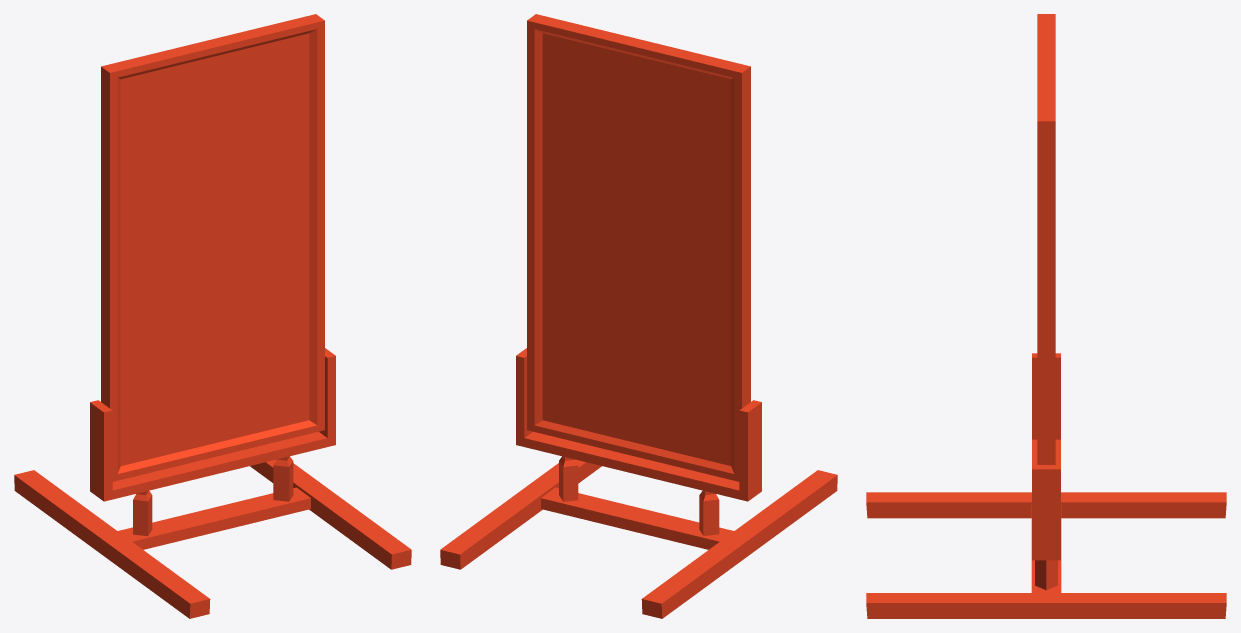
Rendered from SM_Sign_Standing_B_City.fbx.
The picture shows the model from 3 angles, left to right: view 1: azimuth 30°, elevation 25°; view 2: azimuth 150°, elevation 25°; view 3: azimuth 270°, elevation 25°; orthographic projection. The views are drawn at different scales.
Parts seen in each view (by area): view 1: SM_Sign_Standing_B_City; view 2: SM_Sign_Standing_B_City; view 3: SM_Sign_Standing_B_City.
Part boxes in pixels (box(x1,y1,x2,y2)): SM_Sign_Standing_B_City: box(14, 14, 411, 618); SM_Sign_Standing_B_City: box(440, 14, 837, 618); SM_Sign_Standing_B_City: box(866, 14, 1226, 618).
Size of the model in its own units: 0.5188 by 1.03 by 0.6818.
